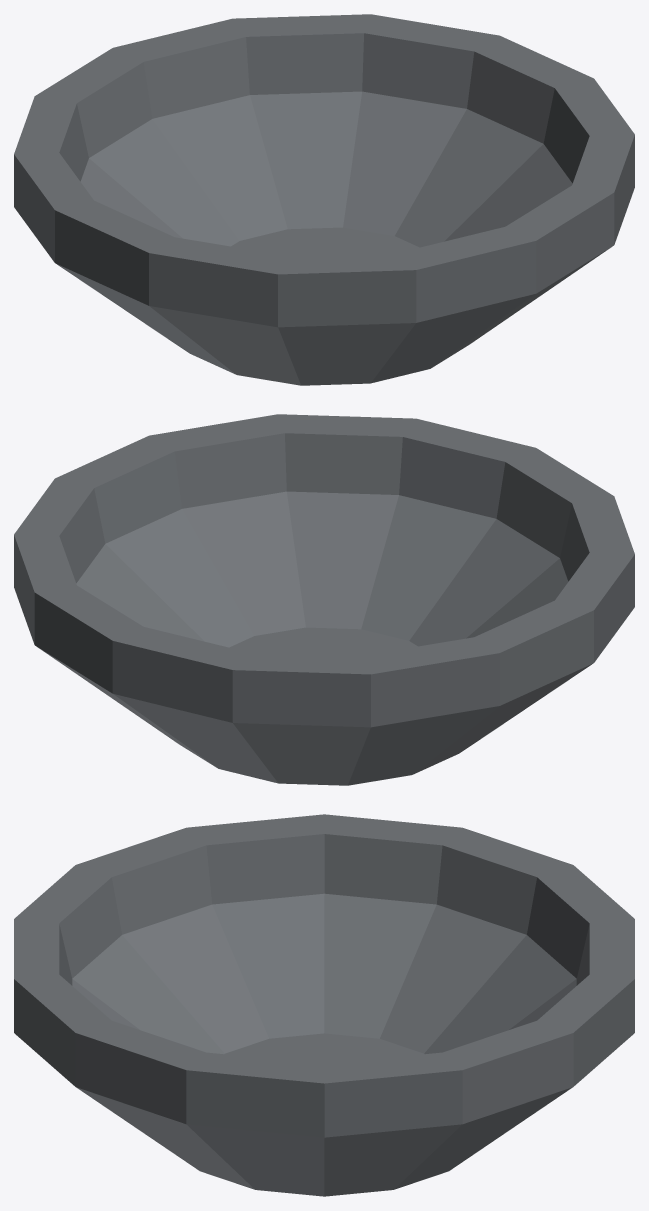
The model's file is Bowl__Pewter.fbx.
3 views of the same model, one above another, from view 1: azimuth 30°, elevation 25°; view 2: azimuth 150°, elevation 25°; view 3: azimuth 270°, elevation 25° (orthographic). The views are drawn at different scales.
Visible parts, largest first — view 1: Bowl__Pewter; view 2: Bowl__Pewter; view 3: Bowl__Pewter.
Part boxes in pixels (x1,y1,x2,y2): Bowl__Pewter: (14,14,634,385); Bowl__Pewter: (14,414,634,785); Bowl__Pewter: (14,814,634,1196).
Bounding box in the file's own units: 48 × 15 × 46.8.
Materials: 1 (1 with a texture image).
